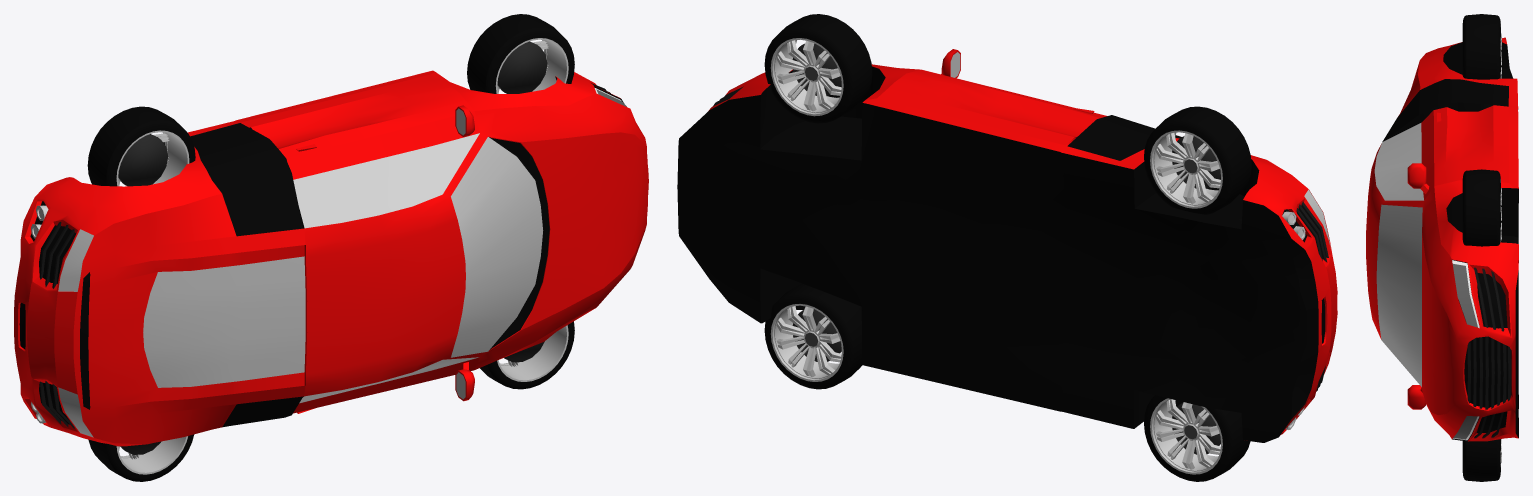
Rendered from SM_A_R7_Supercar.obj.
The picture shows the model from 3 angles, left to right: view 1: azimuth 30°, elevation 25°; view 2: azimuth 150°, elevation 25°; view 3: azimuth 270°, elevation 25°; orthographic projection. The views are drawn at different scales.
Visible parts, largest first — view 1: A_R7_Supercar; view 2: A_R7_Supercar; view 3: A_R7_Supercar.
Boxes of the visible parts, x1,y1,x2,y2 form: A_R7_Supercar: (14, 14, 648, 481); A_R7_Supercar: (677, 14, 1337, 481); A_R7_Supercar: (1366, 14, 1518, 481).
Size of the model in its own units: 220 by 122 by 55.52.
